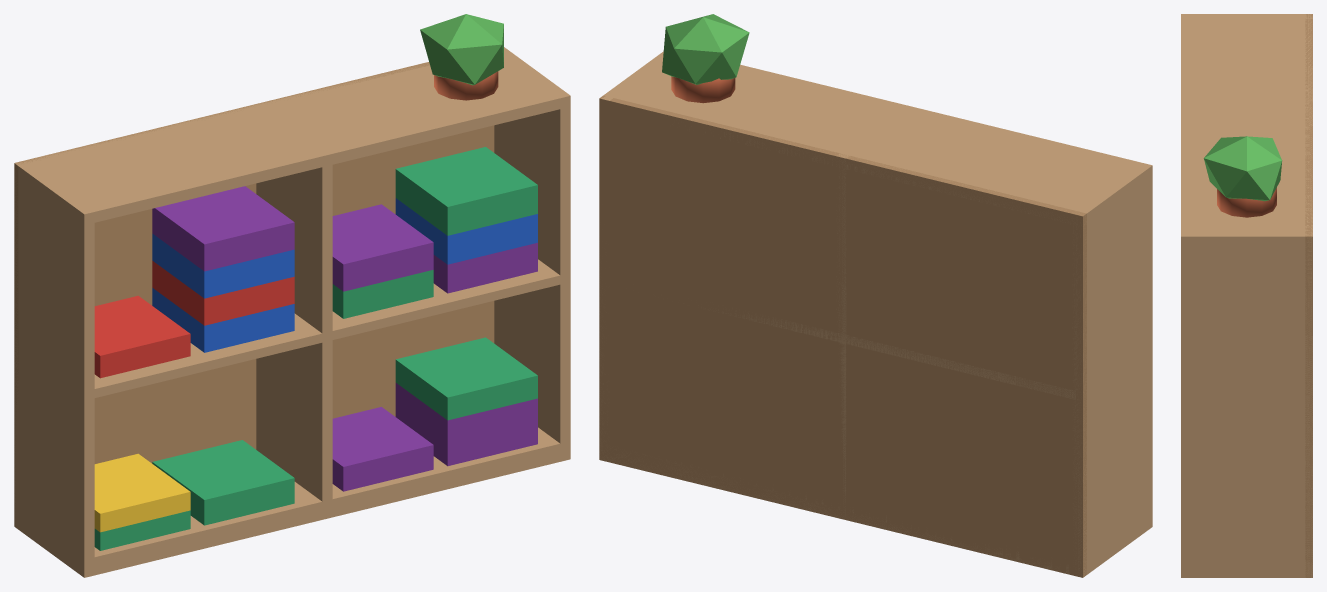
File: GamesShelf.fbx
3 renders of one model, left to right at view 1: azimuth 30°, elevation 25°; view 2: azimuth 150°, elevation 25°; view 3: azimuth 270°, elevation 25°, orthographic. The views are drawn at different scales.
Visible parts, largest first — view 1: GamesShelfBody; view 2: GamesShelfBody; view 3: GamesShelfBody.
Boxes of the visible parts, x1,y1,x2,y2 form: GamesShelfBody: (14,14,570,577); GamesShelfBody: (599,14,1152,577); GamesShelfBody: (1181,14,1312,577).
Bounding box in the file's own units: 1.4 × 1.2 × 0.35.
